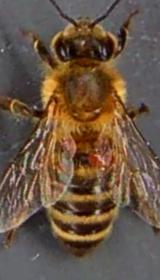varroa_mite: (79, 146, 116, 168)
